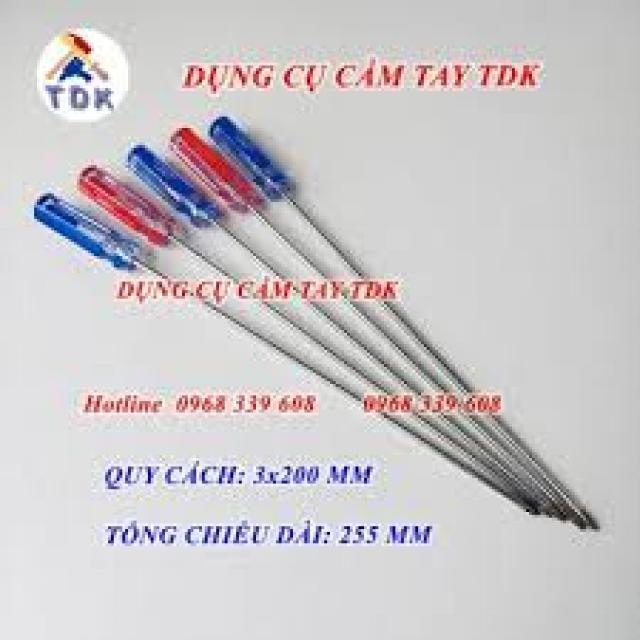screwdriver: (76, 161, 558, 522), (168, 124, 592, 534), (127, 143, 570, 528), (206, 111, 604, 535), (31, 194, 544, 520)
